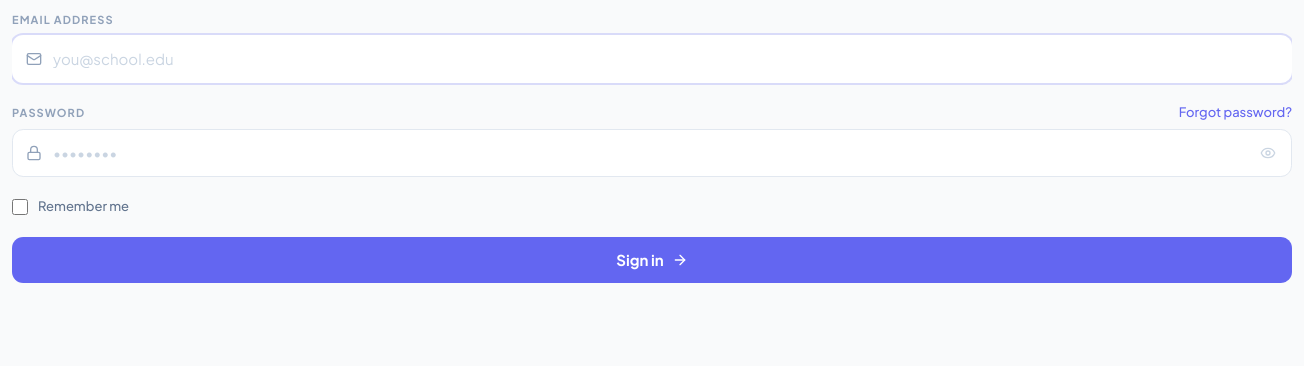
Test: SignInForm › clears the error when the user starts typing again
The width and height of the screenshot is (1304, 366).
Type "admin@school.edu" into the field labelled "Email address" at [652, 59], box [12,34,1292,83]
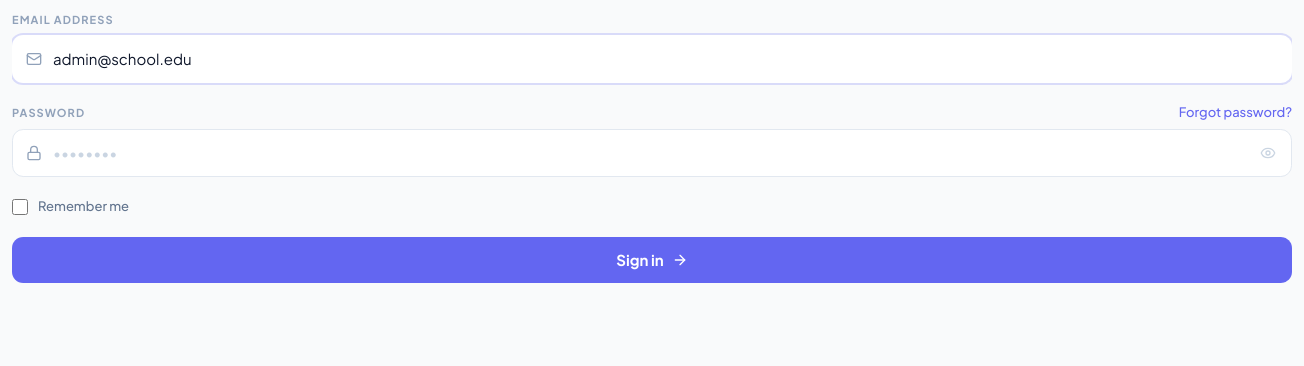
Type "WrongPass!" into the password field labelled "Password" at [652, 153], box [12,128,1292,177]
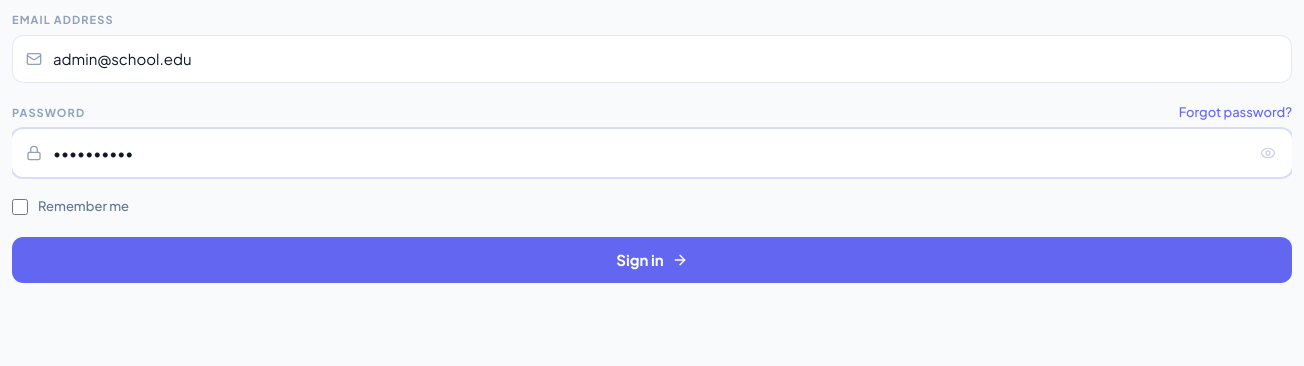
Click the button "Sign in" at [652, 260], box [12,236,1292,283]
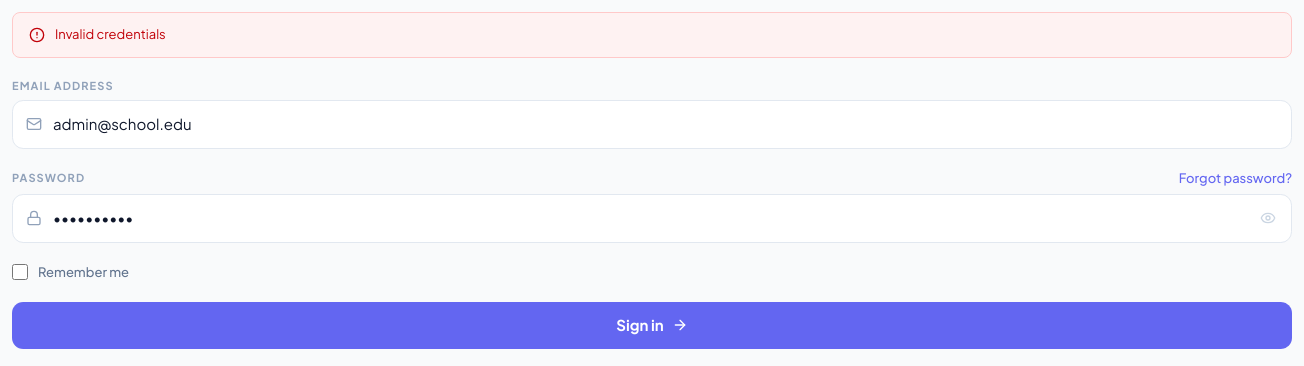
Check: the message "Invalid credentials" is shown, box [12,12,1292,58]
Type "x" into the password field labelled "Password" at [652, 218], box [12,194,1292,242]
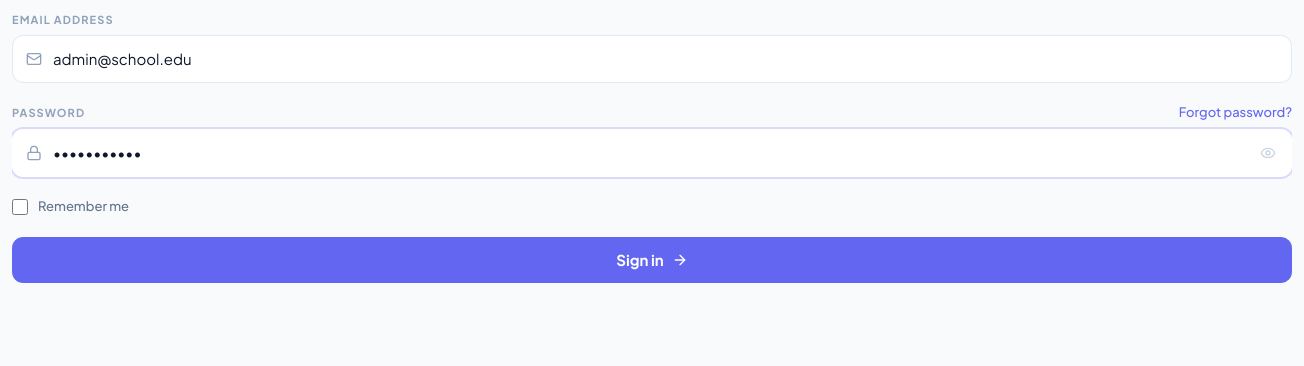
Check: the message "Invalid credentials" is gone
